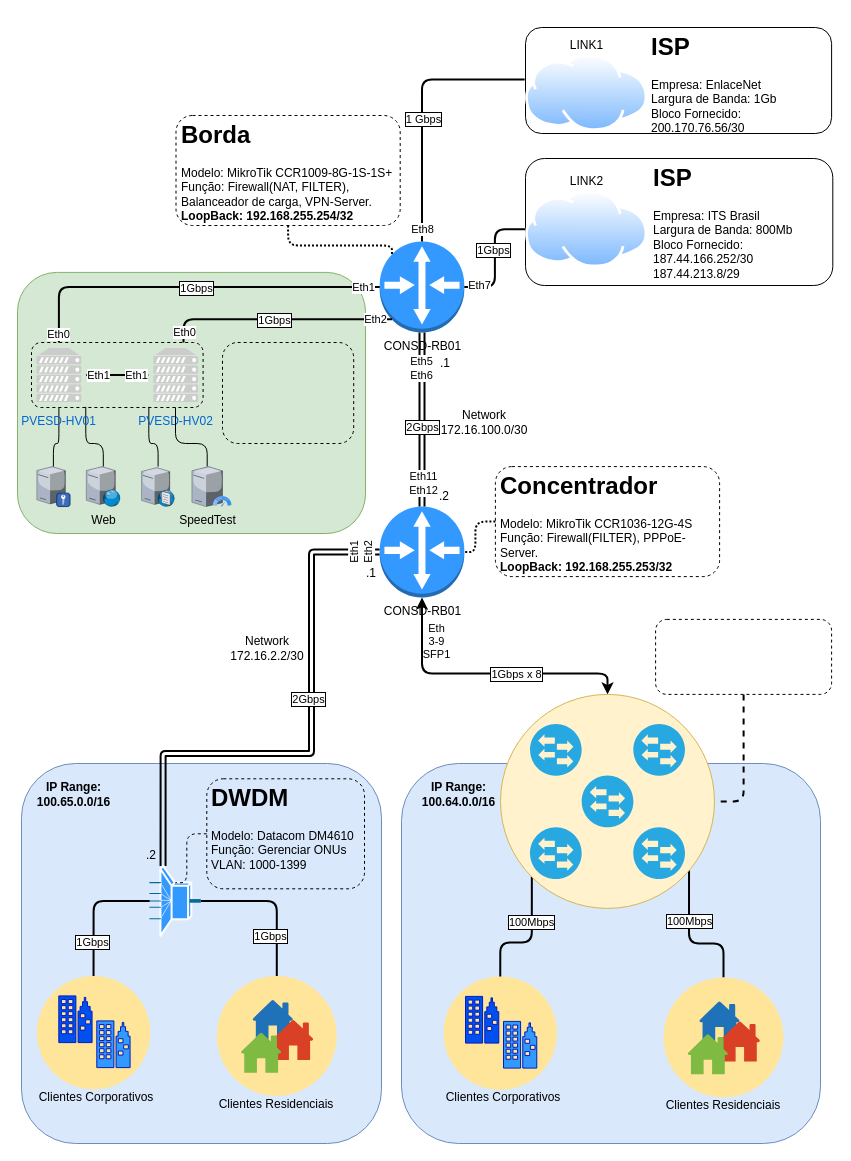
This 851x1161 diagram has some shape labels left out. Each missing label, with the centre of its shape:
"Dns" belongs at point 157,486.
"OLTSD-DM01" belongs at point 174,900.
"Radius" belongs at point 53,486.
"Servidores Modelo: Proxmox VE Função: Virtualidação, Cluster" belongs at point 288,393.
"Switchs Função: Distribuição FInal." belongs at point 743,656.
